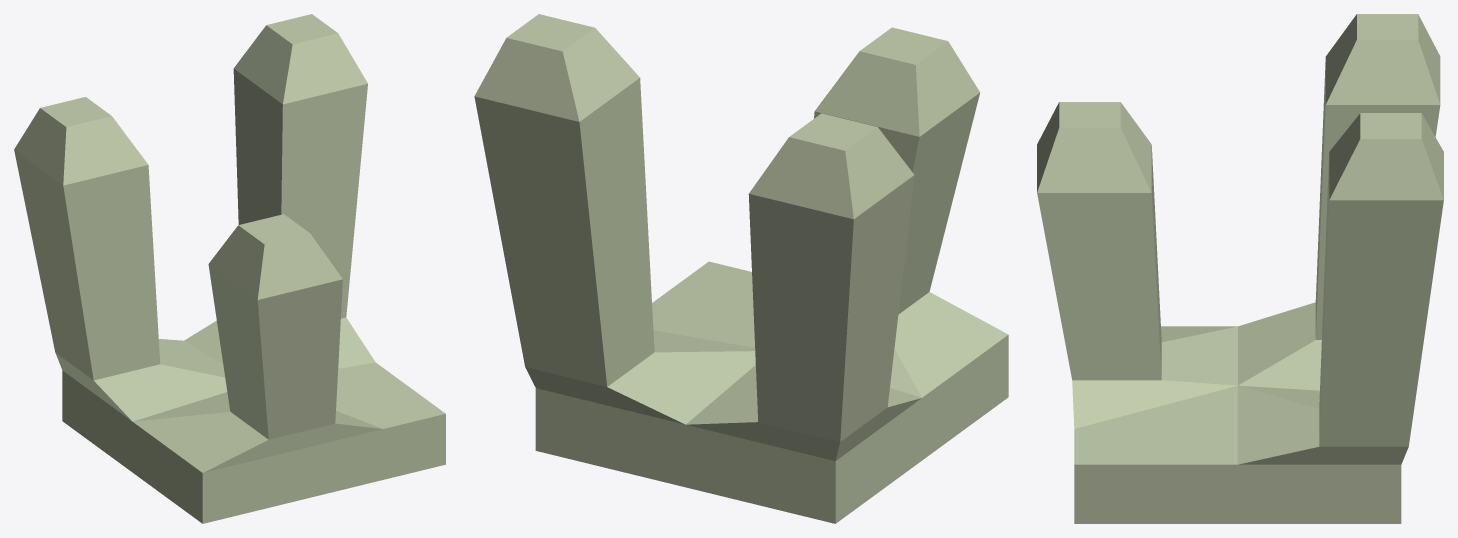
The model's file is resource__grass__no-border-light.fbx.
3 views of the same model, side by side, from view 1: azimuth 30°, elevation 25°; view 2: azimuth 150°, elevation 25°; view 3: azimuth 270°, elevation 25° (orthographic). The views are drawn at different scales.
Parts seen in each view (by area): view 1: Grass_No_Border_Light; view 2: Grass_No_Border_Light; view 3: Grass_No_Border_Light.
Part boxes in pixels (bbox=[...]): Grass_No_Border_Light: bbox=[14, 14, 445, 523]; Grass_No_Border_Light: bbox=[474, 14, 1008, 523]; Grass_No_Border_Light: bbox=[1037, 14, 1443, 523].
Bounding box in the file's own units: 20.77 × 21.88 × 20.5.
